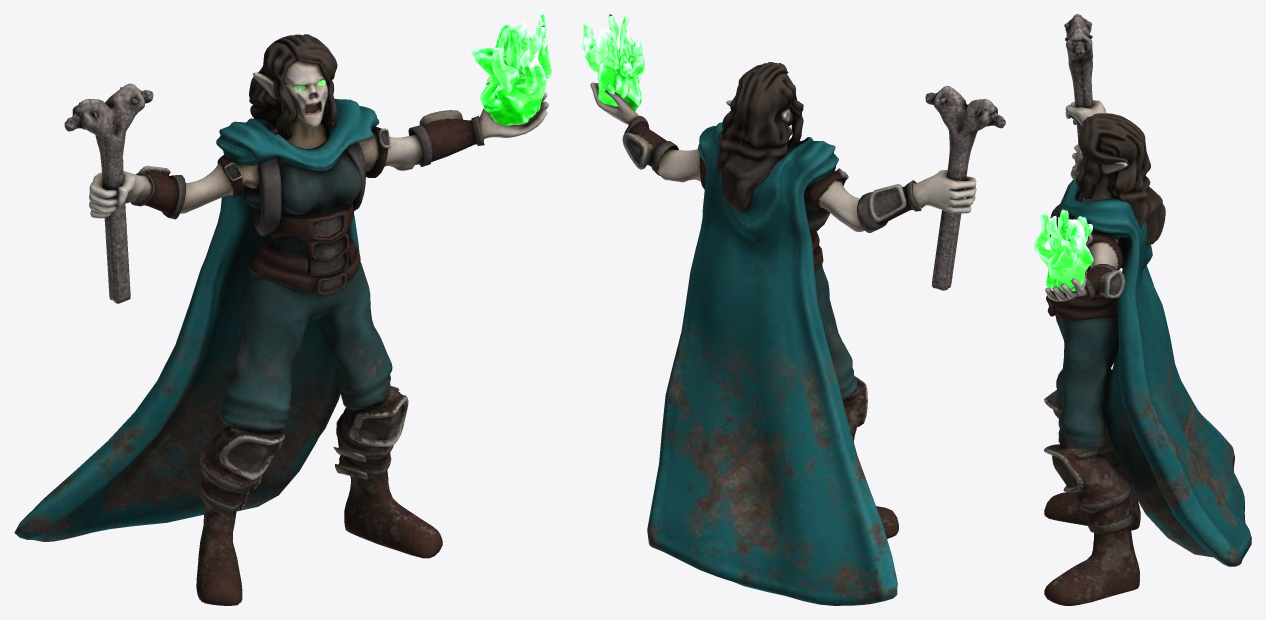
Rendered from MZ4250 - Deathlock.glb.
3 renders of one model, left to right at view 1: azimuth 30°, elevation 25°; view 2: azimuth 150°, elevation 25°; view 3: azimuth 270°, elevation 25°, orthographic. The views are drawn at different scales.
Parts seen in each view (by area): view 1: Gorilla t.001; view 2: Gorilla t.001; view 3: Gorilla t.001.
Boxes of the visible parts, x1=… form: Gorilla t.001: x1=14, y1=14, x2=552, y2=605; Gorilla t.001: x1=581, y1=14, x2=1005, y2=605; Gorilla t.001: x1=1034, y1=14, x2=1251, y2=605.
Size of the model in its own units: 0.8303 by 0.8823 by 0.3826.
1 material, 1 textured.
